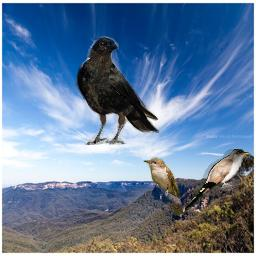Crow: (75, 36, 160, 145)
Cuckoo: (182, 149, 251, 212), (143, 157, 184, 216)
